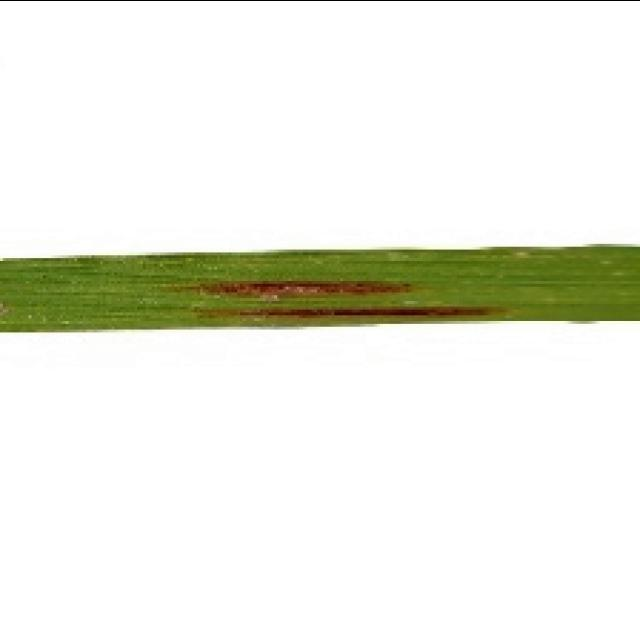Unhealthy: (235, 301, 487, 317), (195, 278, 411, 296)
